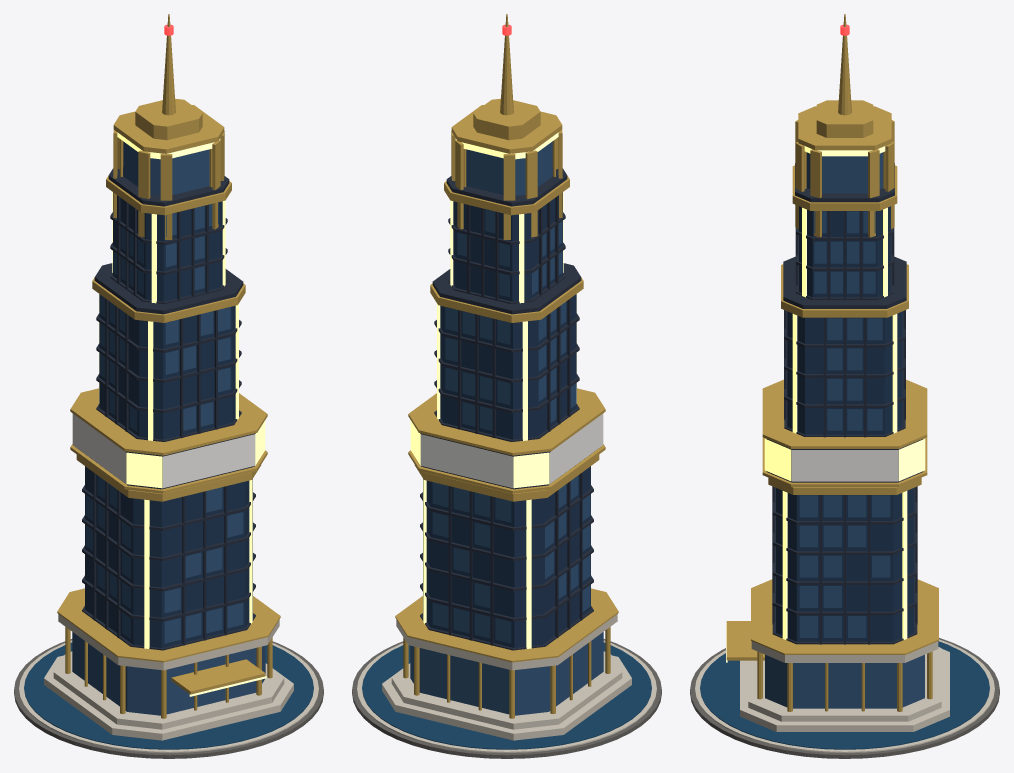
File: hq-binomar.glb
The picture shows the model from 3 angles, left to right: view 1: azimuth 30°, elevation 25°; view 2: azimuth 150°, elevation 25°; view 3: azimuth 270°, elevation 25°; orthographic projection.
Visible parts, largest first — view 1: hq-binomar; view 2: hq-binomar; view 3: hq-binomar.
Boxes of the visible parts, x1,y1,x2,y2 form: hq-binomar: [14, 14, 323, 758]; hq-binomar: [352, 14, 661, 758]; hq-binomar: [690, 14, 999, 758].
Bounding box in the file's own units: 18.6 × 44.98 × 18.6.
